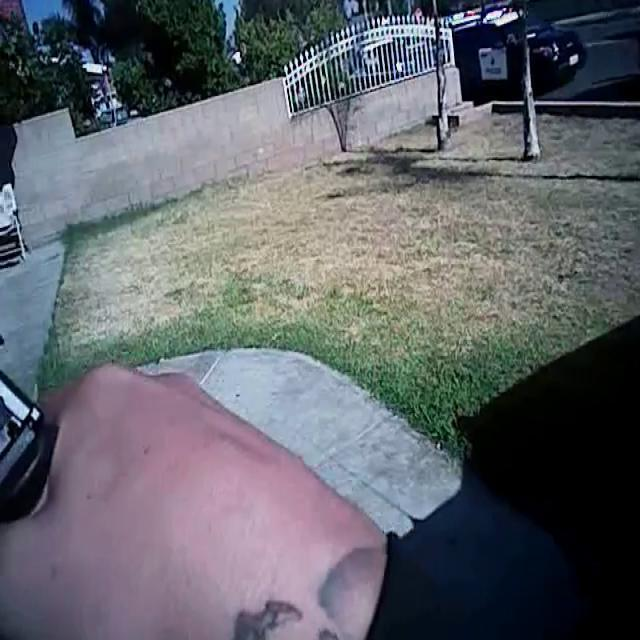gun: (0, 279, 90, 587)
